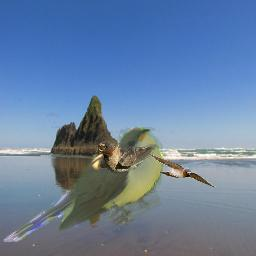Cuckoo: (1, 127, 163, 242)
Swallow: (147, 152, 216, 188), (95, 141, 156, 174)
